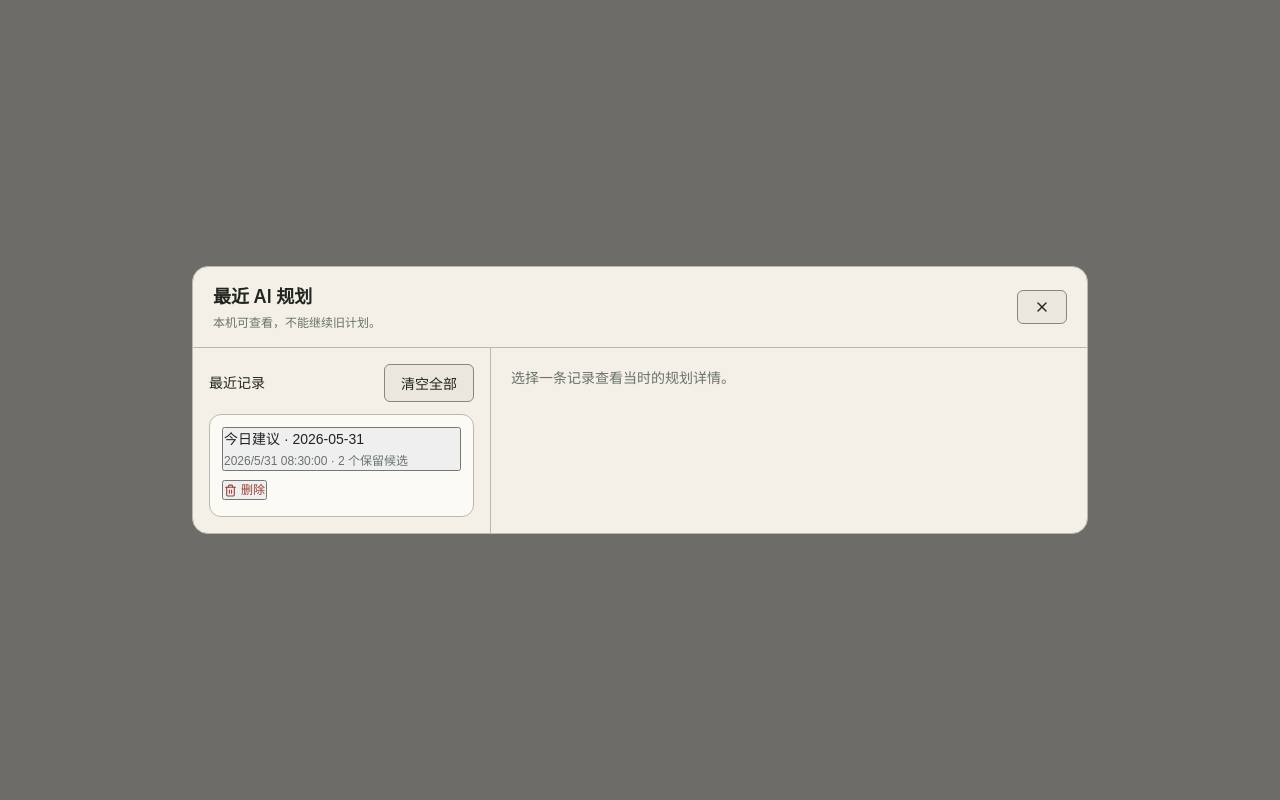
PlanningHistoryDialog › shows human-readable history detail without exposing internal identifiers or raw JSON
Click the button "今日建议 · 2026-05-31 2026/5/31 08:30:00 · 2 个保留候选": (342, 449) [222,427,461,471]
(page scrolled)
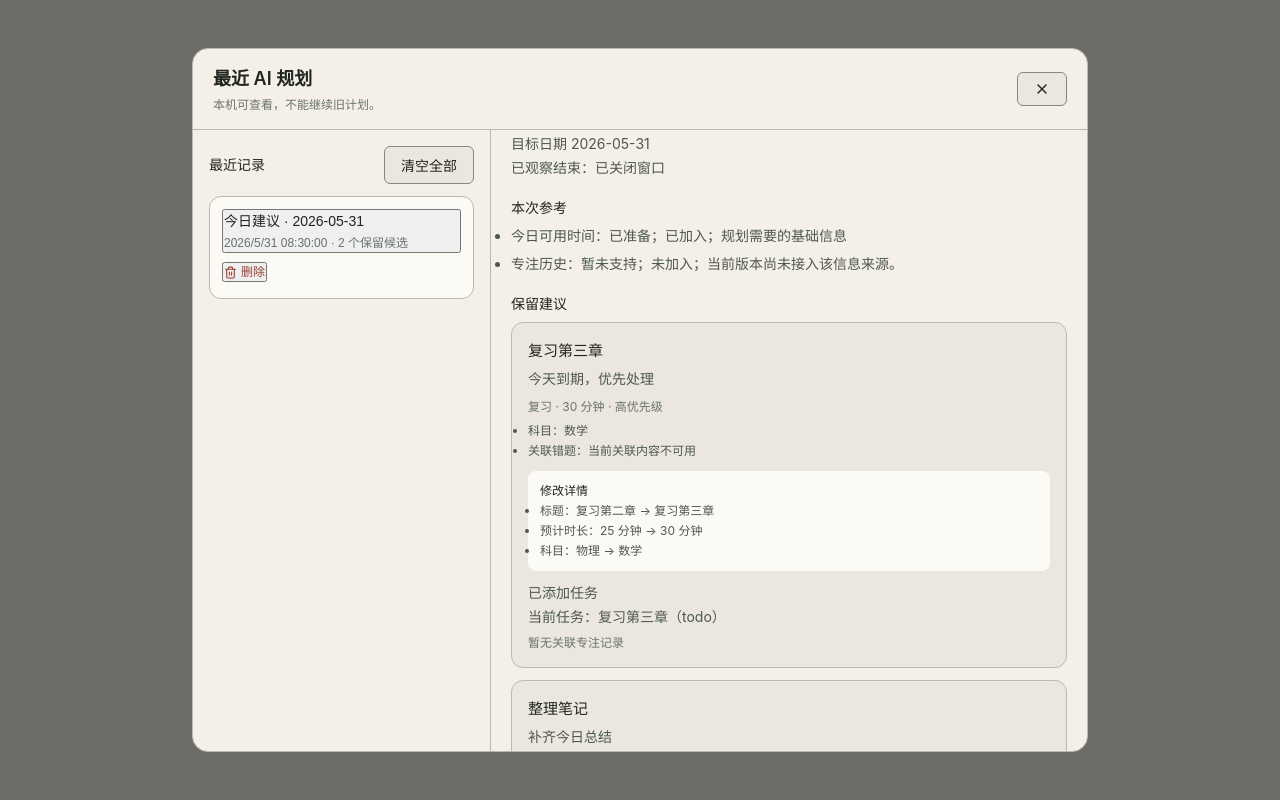
Expected: the element with test id "planning-history-detail" shows "目标日期 2026-05-31", [511,130,1067,751]
Expected: the element with test id "planning-history-detail" shows "今日可用时间", [511,227,595,244]
Expected: the element with test id "planning-history-detail" shows "已加入", [665,227,707,244]
